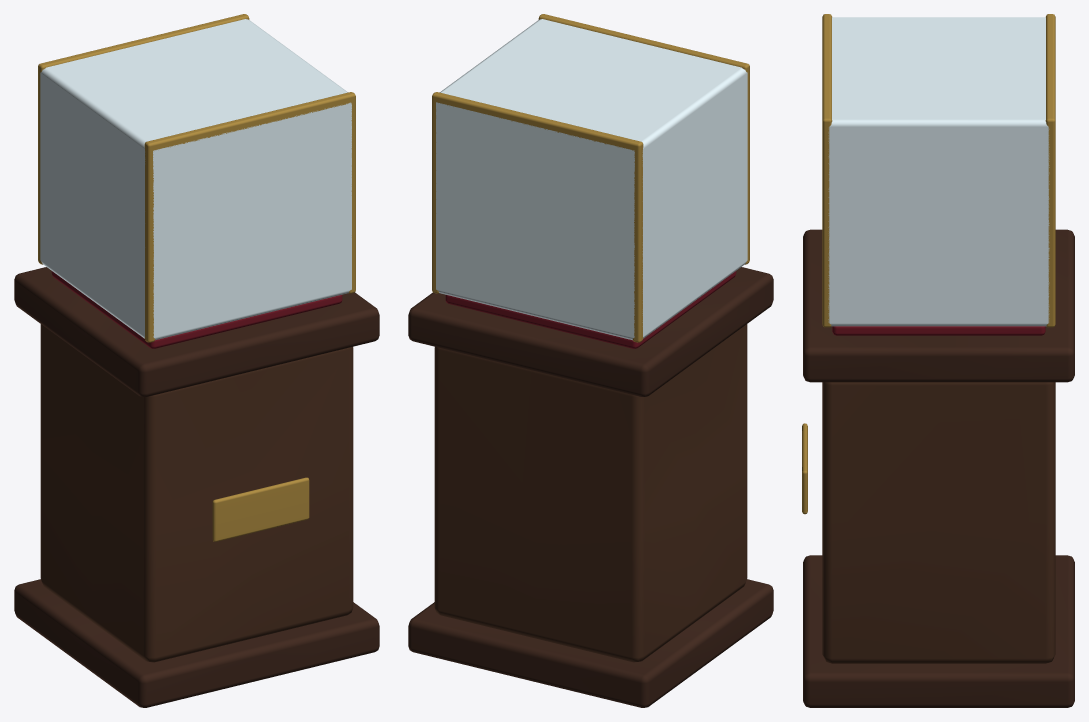
The model's file is furn_display_case.glb.
The picture shows the model from 3 angles, left to right: view 1: azimuth 30°, elevation 25°; view 2: azimuth 150°, elevation 25°; view 3: azimuth 270°, elevation 25°; orthographic projection. The views are drawn at different scales.
Visible parts, largest first — view 1: furn_display_case_main, furn_display_case_clear; view 2: furn_display_case_main, furn_display_case_clear; view 3: furn_display_case_main, furn_display_case_clear.
Boxes of the visible parts, left/top/right/bottom form: furn_display_case_main: left=14, top=14, right=379, bottom=707; furn_display_case_clear: left=40, top=19, right=351, bottom=340; furn_display_case_main: left=408, top=14, right=773, bottom=707; furn_display_case_clear: left=436, top=19, right=747, bottom=340; furn_display_case_main: left=802, top=14, right=1074, bottom=707; furn_display_case_clear: left=828, top=17, right=1049, bottom=326.
Bounding box in the file's own units: 0.6 × 1.33 × 0.562.
